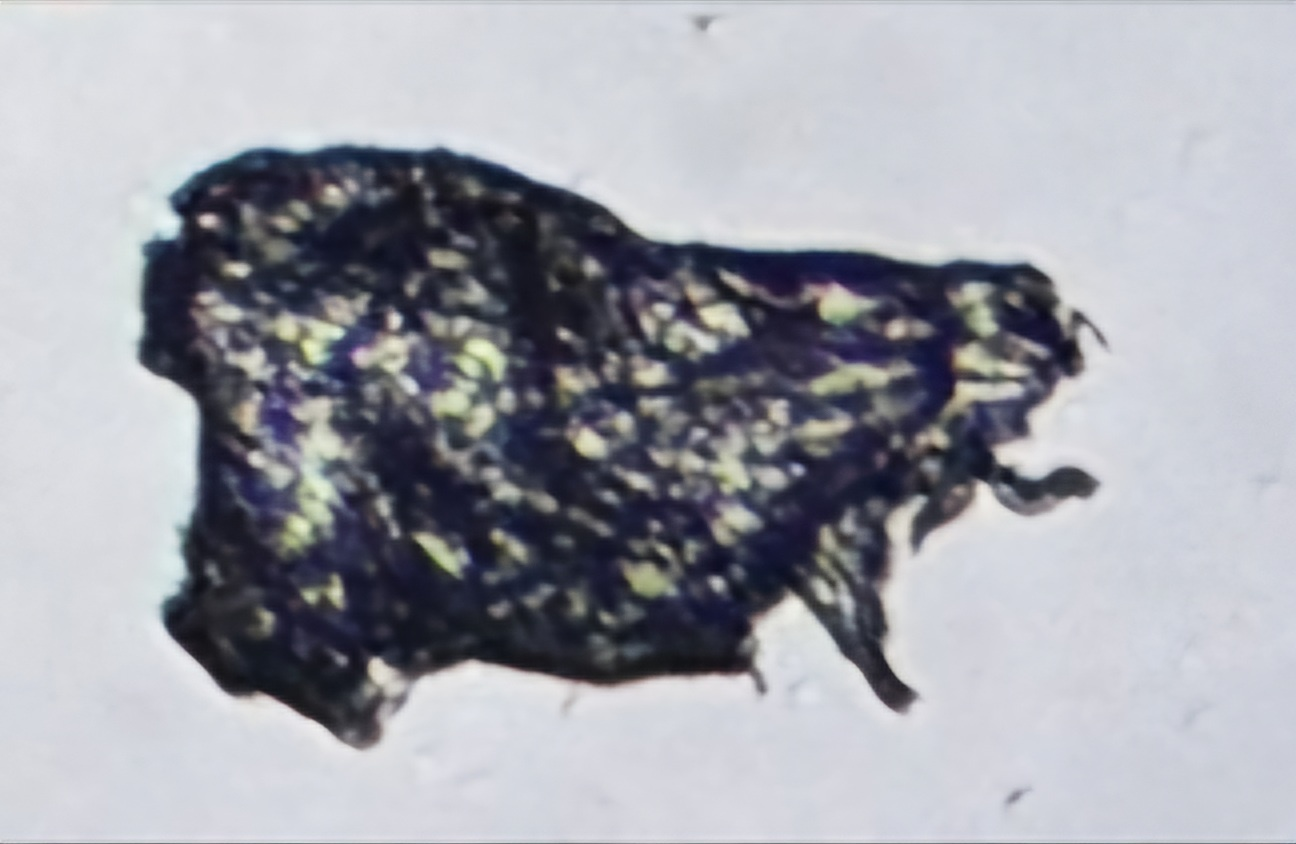microplastic: (137, 144, 1114, 752)
